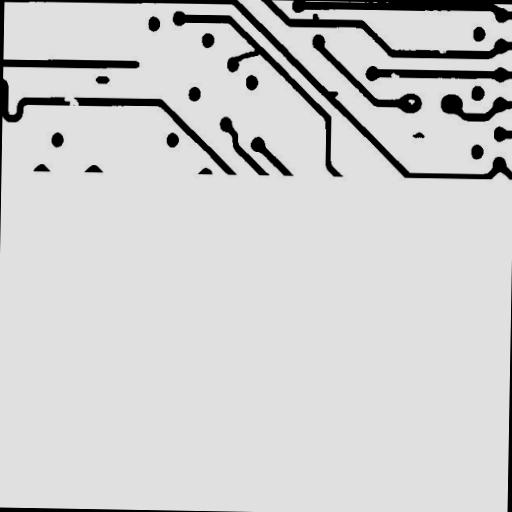copper: (88, 68, 116, 92), (404, 124, 432, 146)
mousebite: (383, 65, 407, 85), (431, 42, 454, 60)
open: (56, 88, 86, 118)
pin-hole: (400, 91, 422, 112)
short: (223, 40, 270, 70)
spur: (320, 84, 346, 105), (304, 6, 326, 29)
